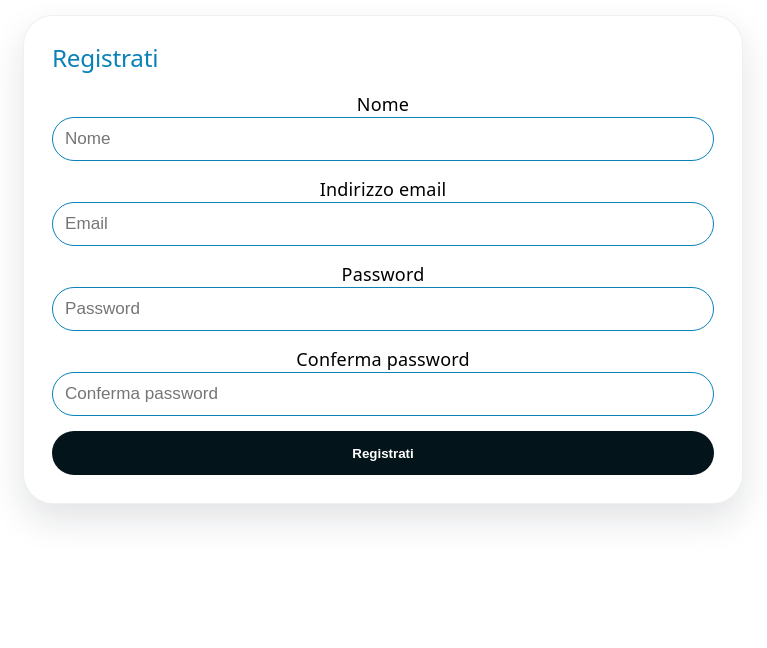
Test: RegitrationForm inserimento dati non validi › nome, email, password obbligatorie
This screenshot has width=767, height=648.
# I campi sono già vuoti, basta cliccare submit
Click the button "Registrati" at (383, 453), box 52,431 -> 714,475
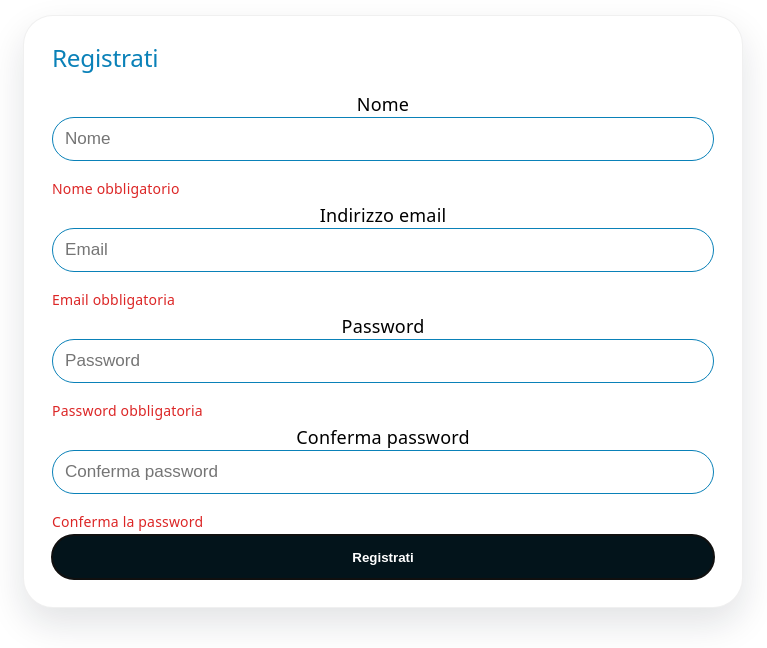
expect the text "Nome obbligatorio" is shown: met, box 52,179 -> 180,198
expect the text "Email obbligatoria" is shown: met, box 52,290 -> 175,309
expect the text "Password obbligatoria" is shown: met, box 52,401 -> 203,420
